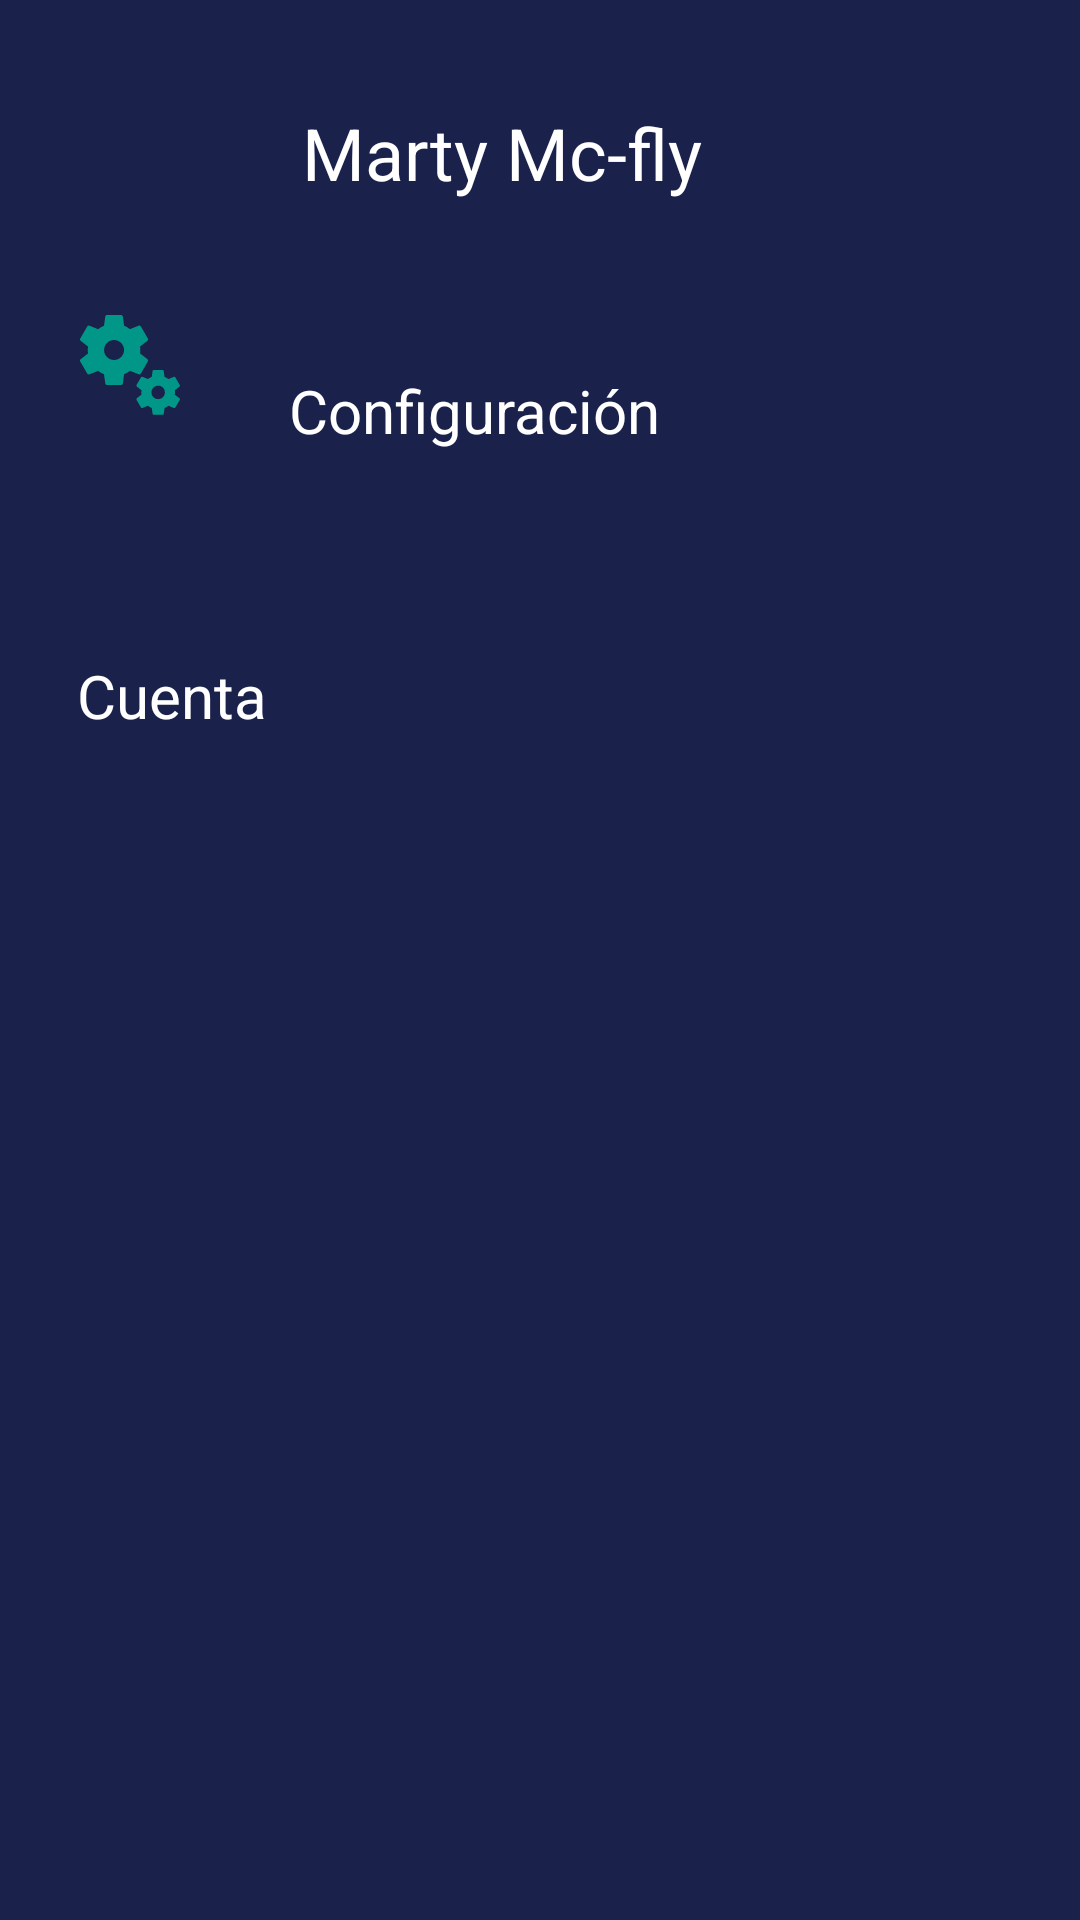

Named icons in this screenshot (1080px x 1920px) and their bounding boxes, (x1, y1, x2, y2):
configverde: (80, 315, 180, 415)
